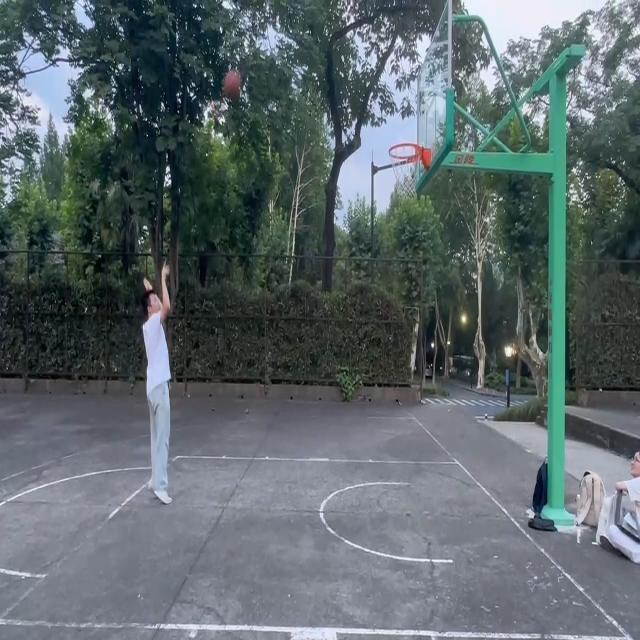basketball: (389, 144, 436, 198)
rim: (223, 70, 241, 97)
